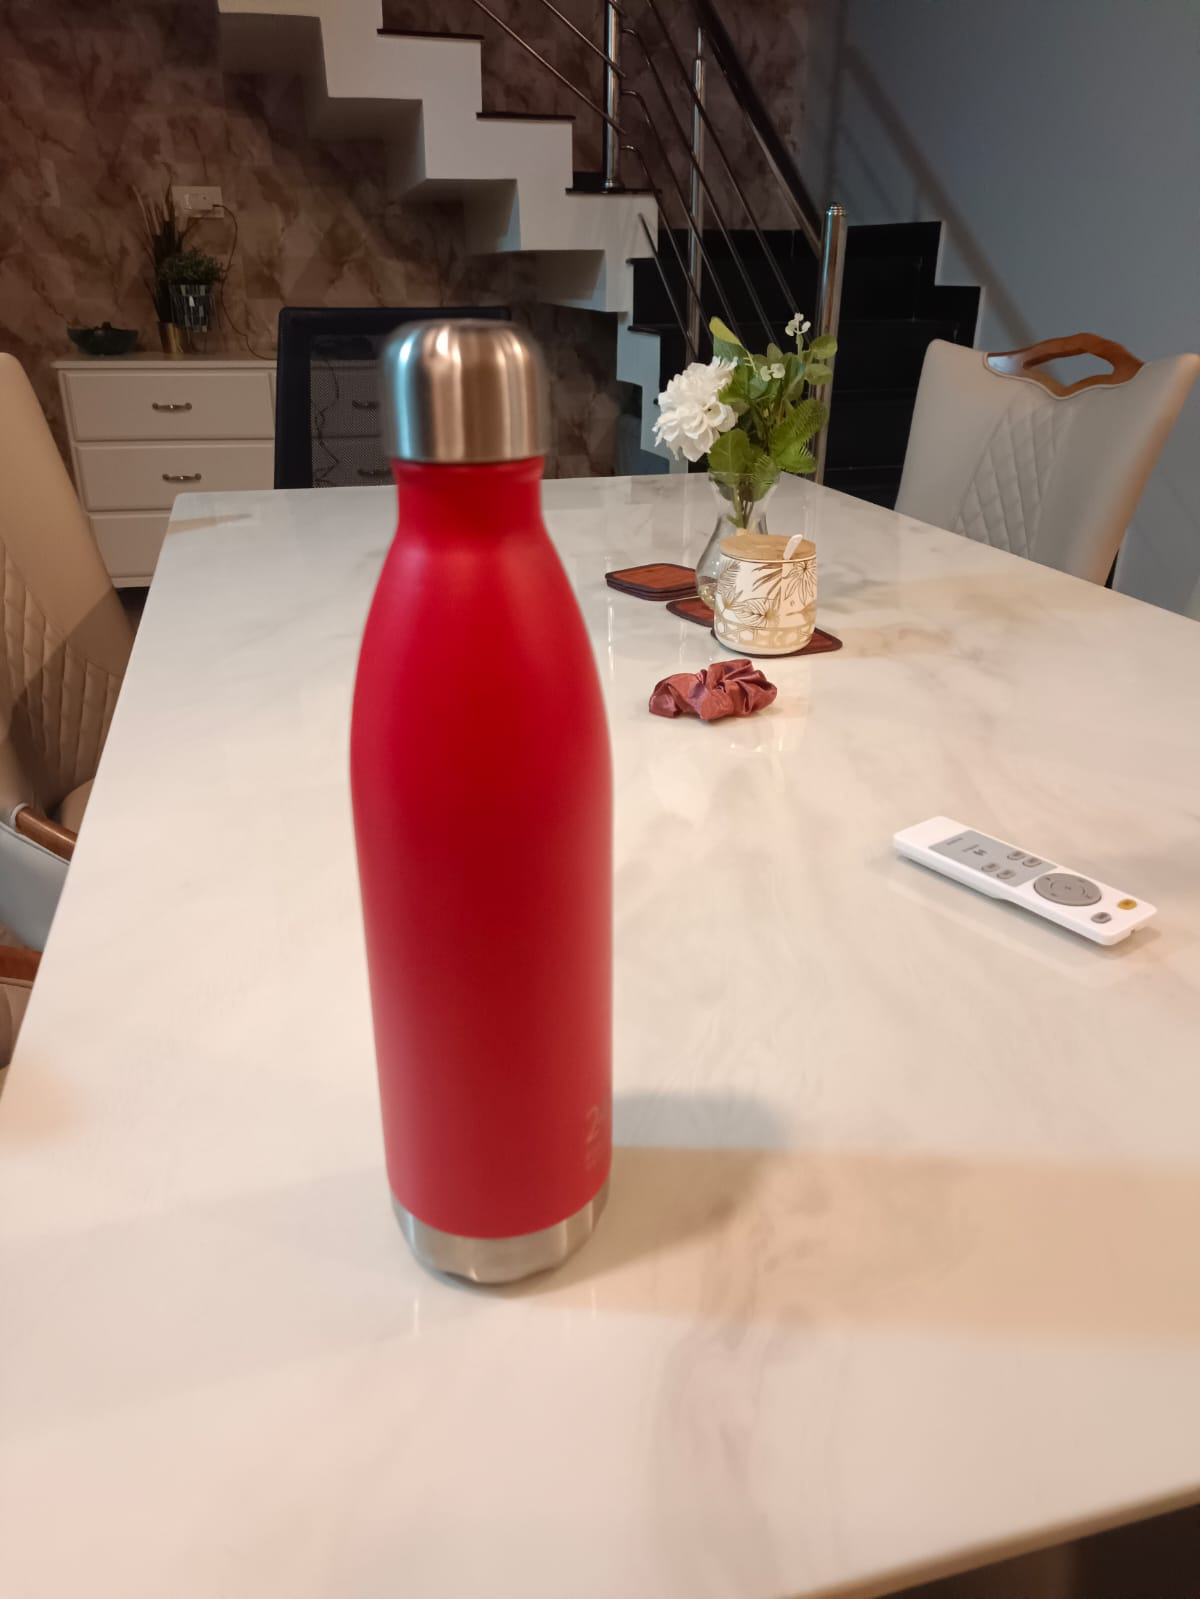bottle: (338, 306, 638, 1299)
